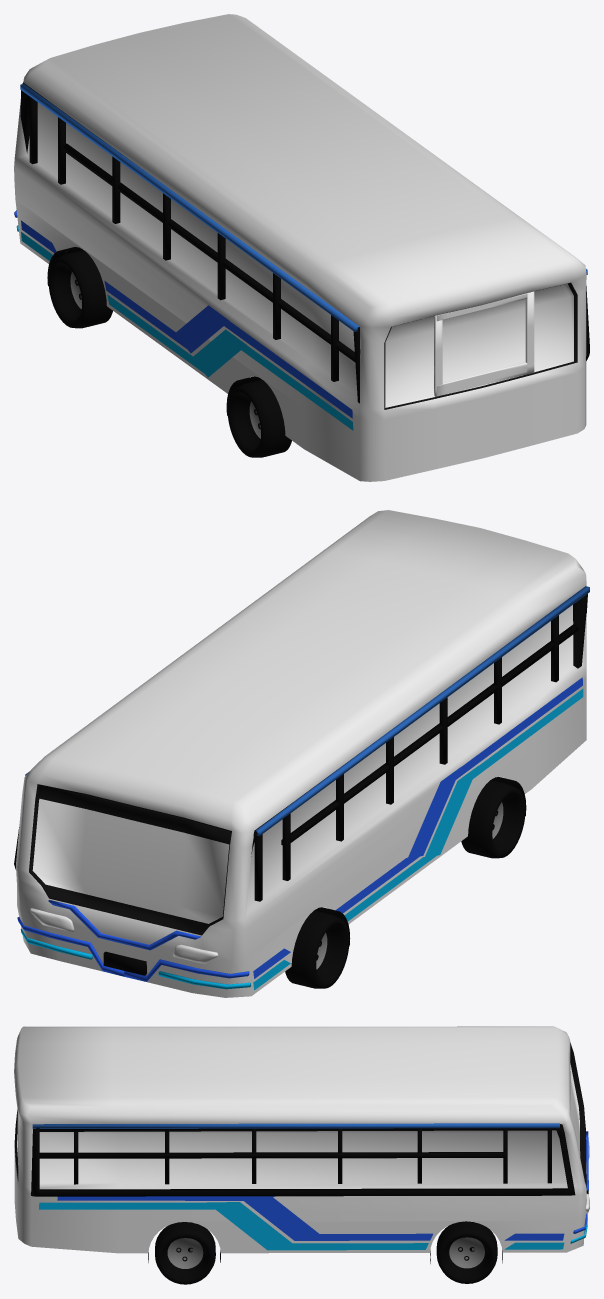
The model's file is tataflip.fbx.
3 renders of one model, top to bottom at view 1: azimuth 30°, elevation 25°; view 2: azimuth 150°, elevation 25°; view 3: azimuth 270°, elevation 25°, orthographic. The views are drawn at different scales.
Parts seen in each view (by area): view 1: Cube.002, Cylinder.004, Cylinder.008, Cube.034, Cube.011, Plane.005, Plane.001, Plane.002, Cube.027, Plane.006, Cube.003, Plane.004 (+3 smaller); view 2: Cube.002, Cylinder.004, Cylinder.008, Cube.034, Cube.011, Plane.005, Plane.001, Plane.002, Plane.006, Cube.033, Cube.003, Plane.004 (+4 smaller); view 3: Cube.002, Cube.013, Cylinder.012, Cylinder.016, Cube.020, Cube.035, Plane.014, Plane.013, Plane.009, Plane.012, Plane.010, Plane.008 (+2 smaller).
Part boxes in pixels (box(x1,y1,x2,y2)): Cube.002: box(14, 14, 586, 481); Cylinder.004: box(48, 250, 112, 328); Cylinder.008: box(227, 379, 291, 457); Cube.034: box(20, 84, 359, 331); Cube.011: box(63, 143, 355, 361); Plane.005: box(192, 329, 246, 377); Plane.001: box(175, 305, 229, 353); Plane.002: box(224, 321, 352, 418); Cube.027: box(436, 362, 527, 396); Plane.006: box(241, 345, 353, 430); Cube.003: box(20, 82, 360, 403); Plane.004: box(107, 294, 204, 373); Cube.002: box(16, 510, 586, 997); Cylinder.004: box(285, 910, 349, 988); Cylinder.008: box(461, 780, 525, 858); Cube.034: box(256, 586, 589, 835); Cube.011: box(281, 624, 578, 845); Plane.005: box(424, 766, 478, 857); Plane.001: box(407, 766, 461, 858); Plane.002: box(456, 677, 582, 779); Plane.006: box(473, 688, 583, 778); Cube.033: box(48, 900, 201, 950); Cube.003: box(251, 594, 587, 856); Plane.004: box(344, 855, 436, 921); Cube.002: box(14, 1026, 586, 1253); Cube.013: box(30, 1124, 575, 1196); Cylinder.012: box(155, 1222, 215, 1284); Cylinder.016: box(436, 1221, 497, 1283); Cube.020: box(39, 1152, 505, 1158); Cube.035: box(32, 1123, 559, 1128); Plane.014: box(38, 1202, 238, 1209); Plane.013: box(207, 1202, 292, 1250); Plane.009: box(238, 1196, 318, 1240); Plane.012: box(268, 1243, 428, 1250); Plane.010: box(57, 1196, 275, 1200); Plane.008: box(295, 1233, 432, 1240).
Bounding box in the file's own units: 1862 × 1497 × 4456.
